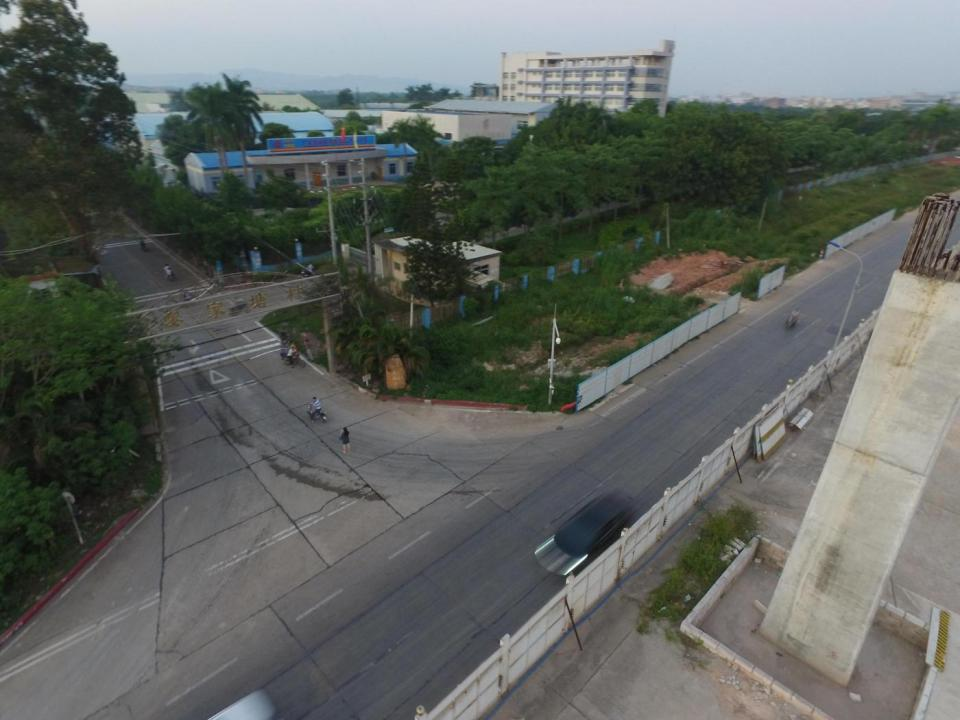car: (552, 489, 635, 556)
